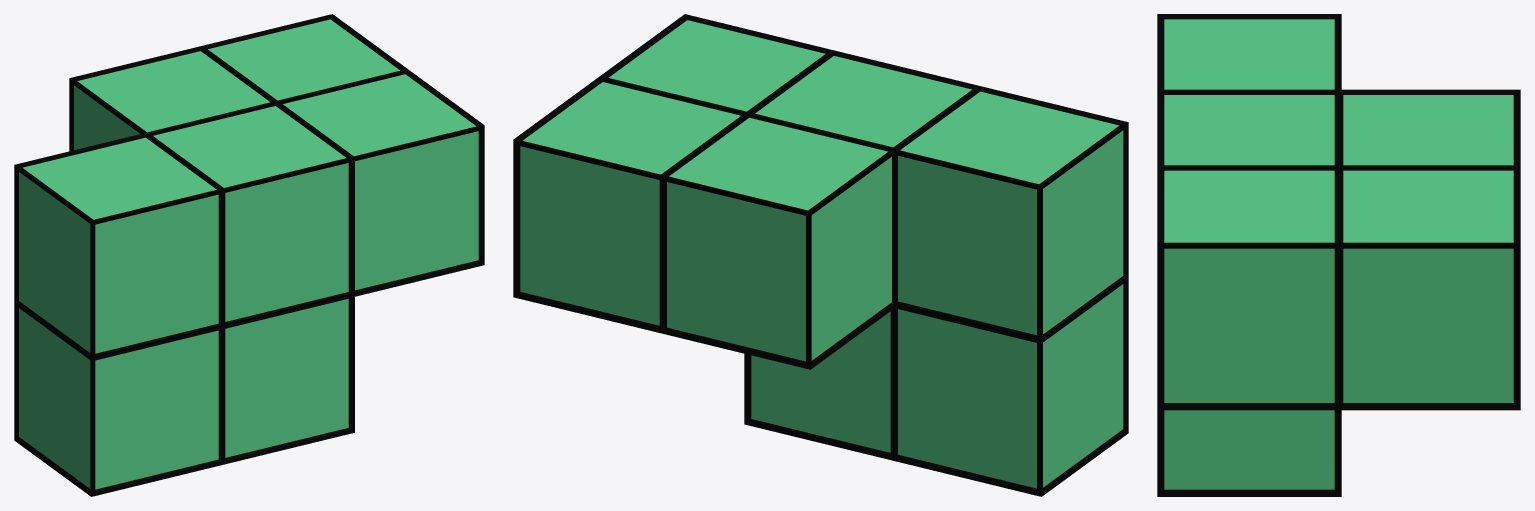
The picture shows the model from 3 angles, left to right: view 1: azimuth 30°, elevation 25°; view 2: azimuth 150°, elevation 25°; view 3: azimuth 270°, elevation 25°; orthographic projection. The views are drawn at different scales.
Visible parts, largest first — view 1: b4:Mesh; view 2: b4:Mesh; view 3: b4:Mesh.
Part boxes in pixels (box(x1,y1,x2,y2)): b4:Mesh: box(14, 14, 484, 496); b4:Mesh: box(513, 14, 1128, 496); b4:Mesh: box(1157, 14, 1520, 496).
Bounding box in the file's own units: 6.06 × 4.06 × 4.06.
